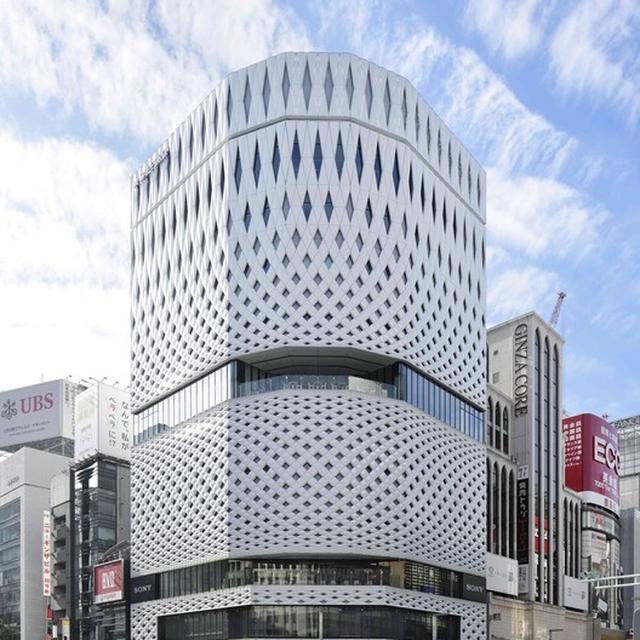building: (129, 51, 489, 640), (493, 310, 640, 640), (6, 376, 131, 640)
